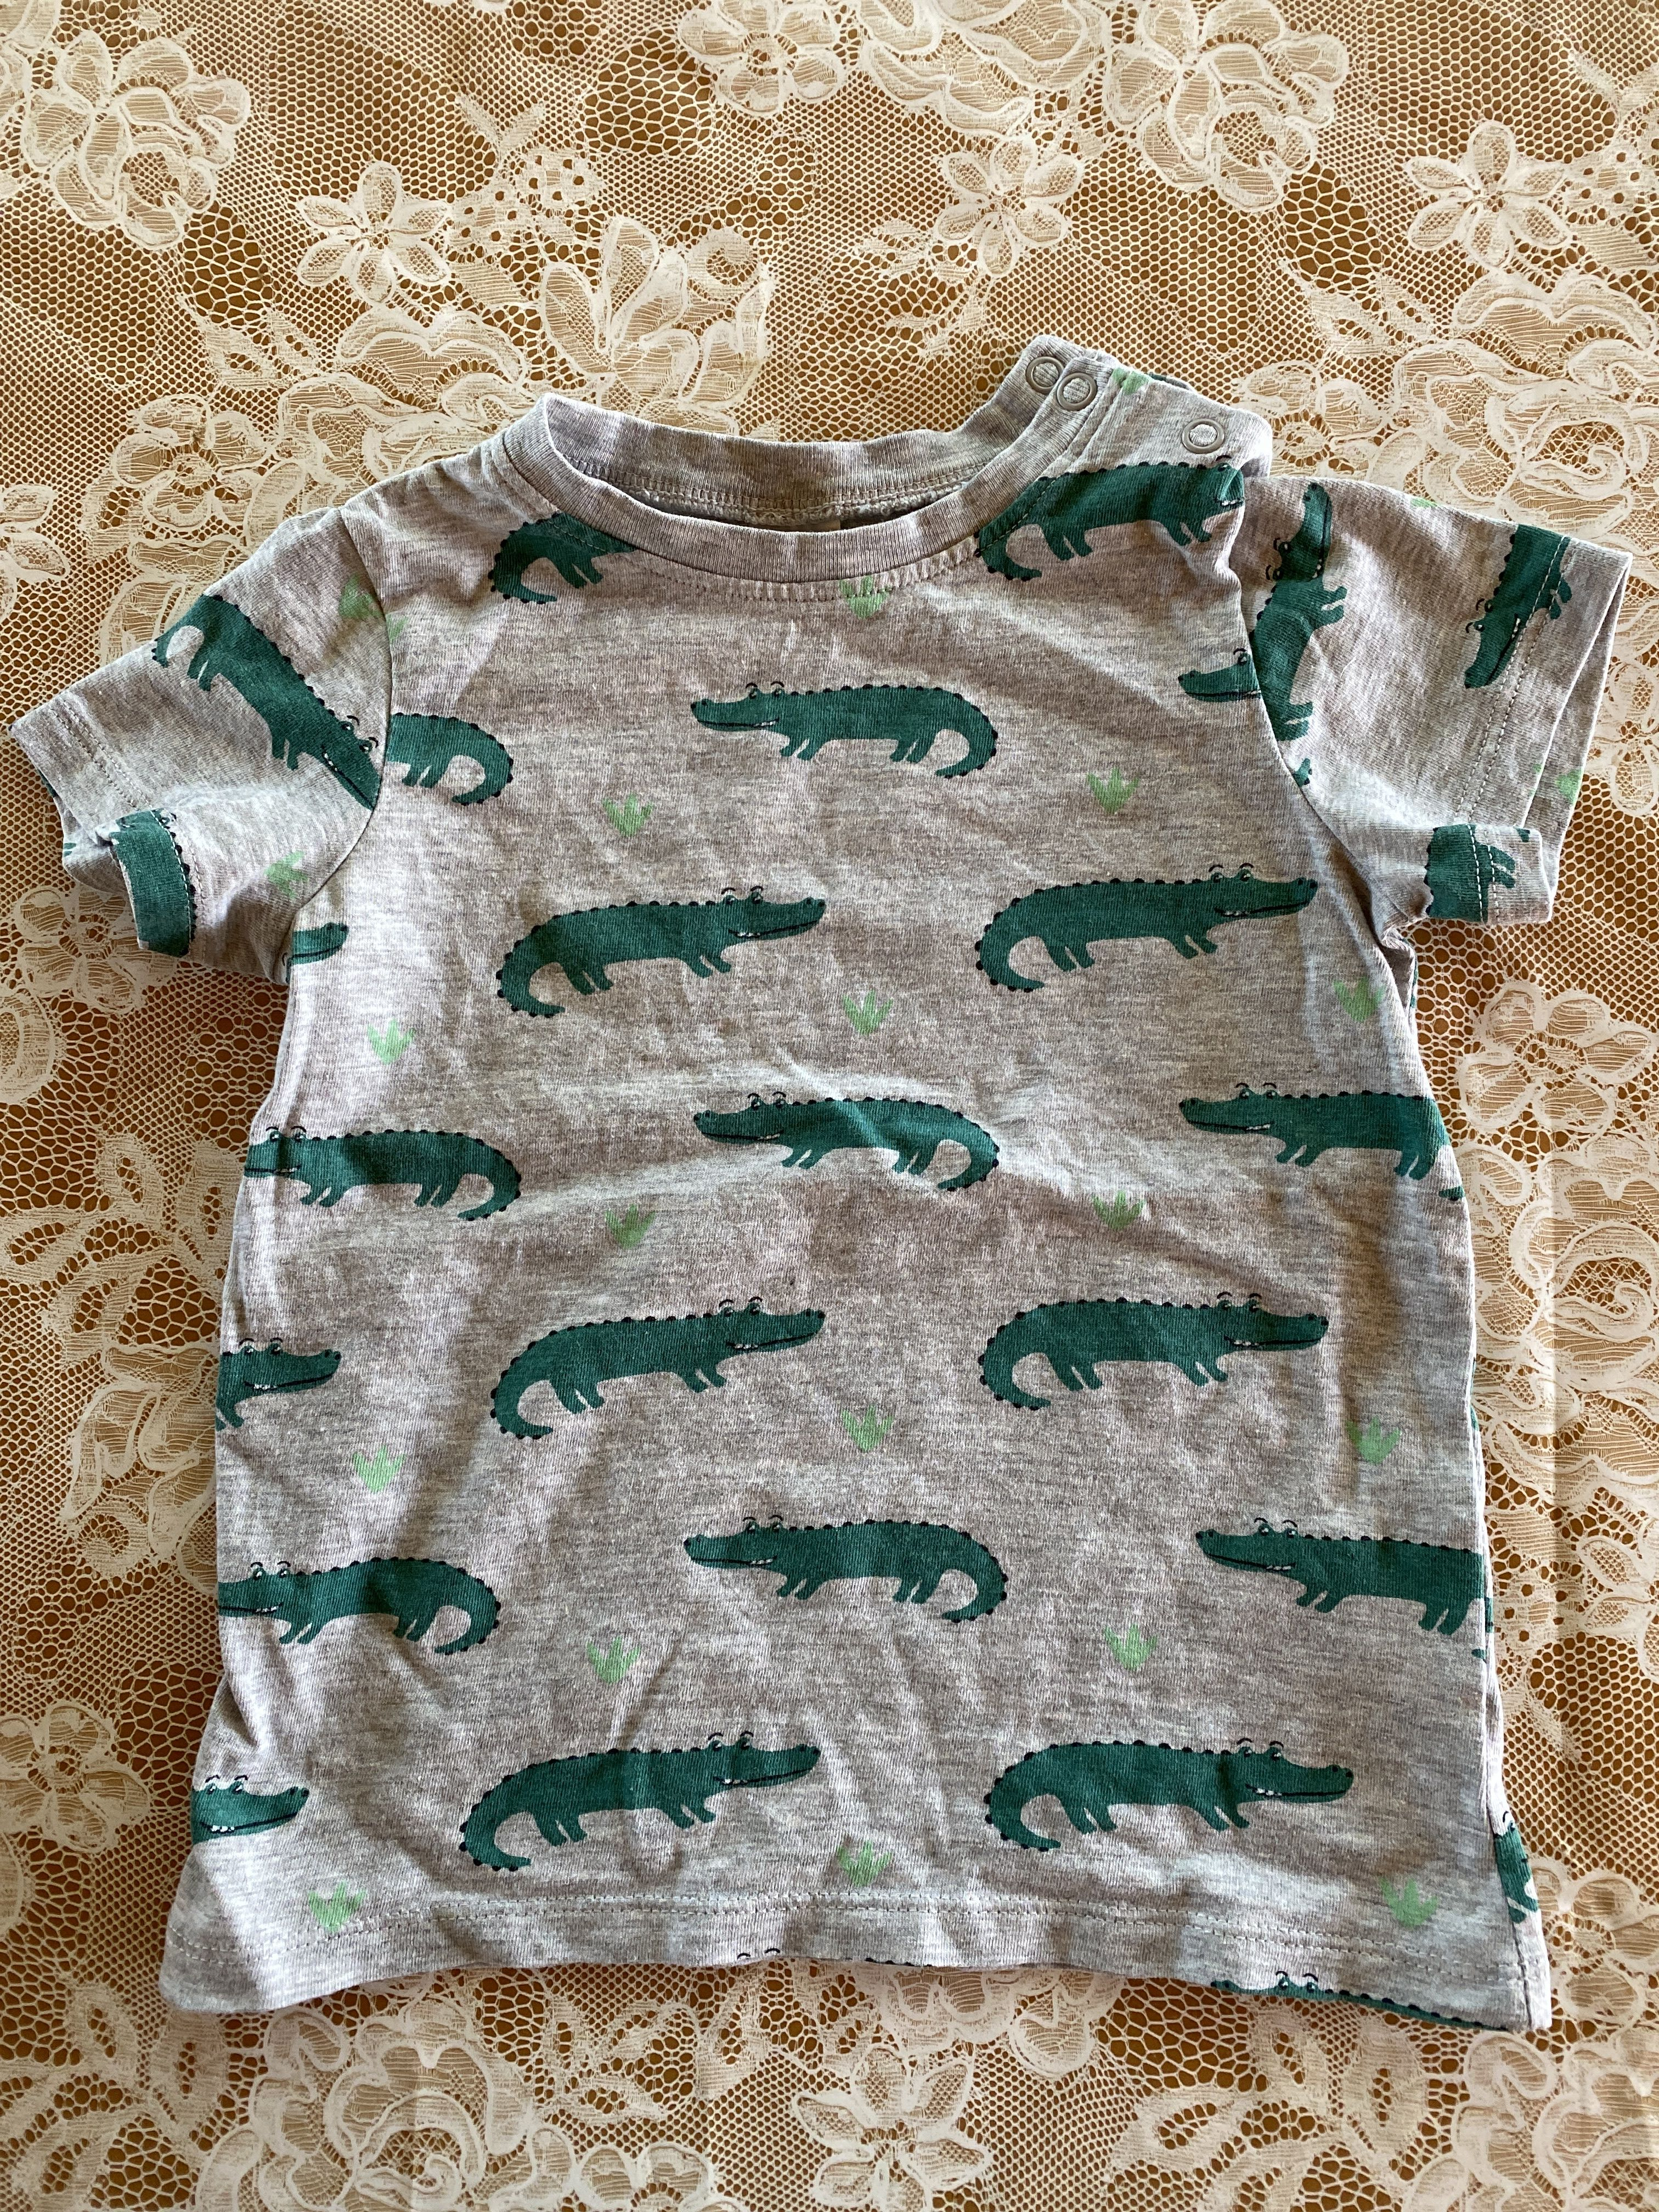clothes: (23, 326, 1647, 2052)
